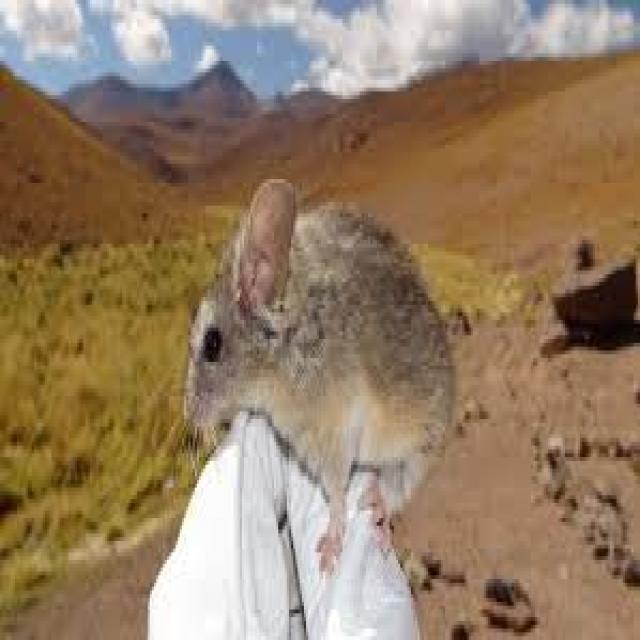Mouse: (180, 187, 459, 520)
